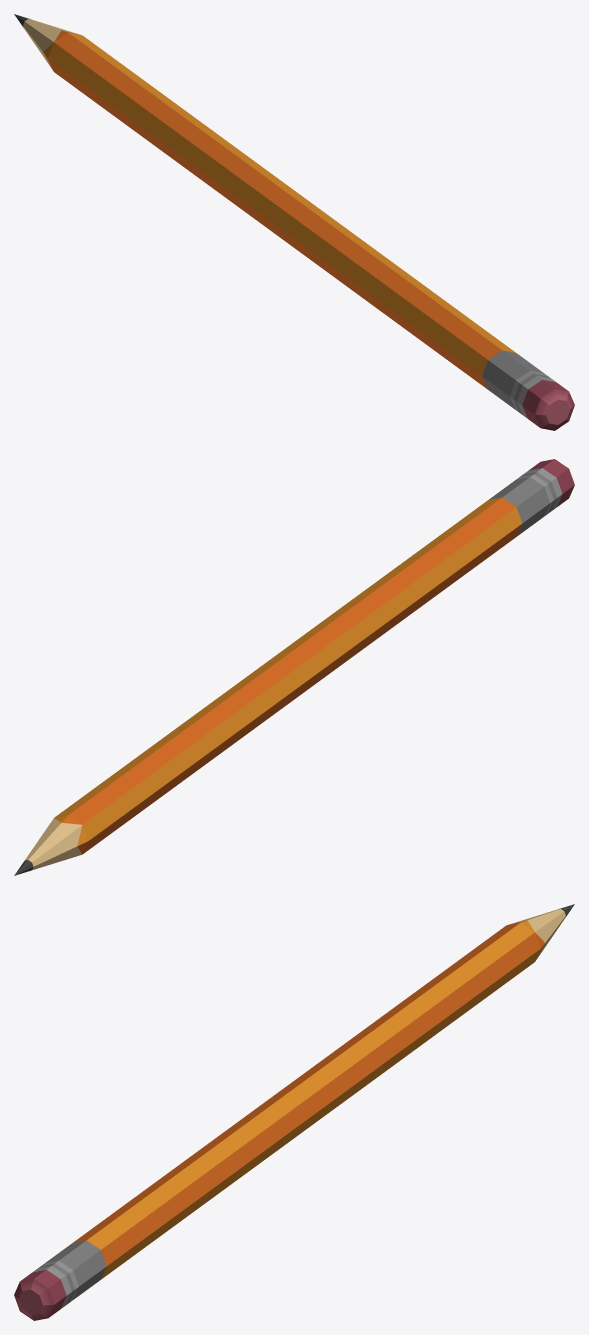
The model's file is human-household-items-pencil_v1.glb.
3 renders of one model, top to bottom at view 1: azimuth 30°, elevation 25°; view 2: azimuth 150°, elevation 25°; view 3: azimuth 330°, elevation 25°, orthographic.
Parts seen in each view (by area): view 1: Pencil.001; view 2: Pencil.001; view 3: Pencil.001.
Part boxes in pixels (box(x1,y1,x2,y2)): Pencil.001: box(14, 14, 574, 430); Pencil.001: box(14, 459, 574, 875); Pencil.001: box(14, 904, 574, 1320).
Bounding box in the file's own units: 0.00813 × 0.00813 × 0.19.
